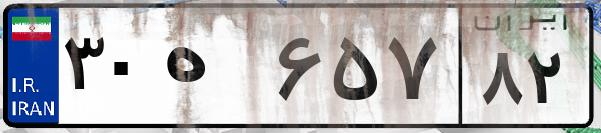0: (110, 28, 158, 98)
2: (525, 38, 570, 115)
3: (57, 26, 110, 100)
5: (330, 28, 385, 110)
6: (270, 28, 330, 110)
7: (385, 28, 445, 110)
8: (475, 38, 525, 113)
ه: (158, 20, 270, 120)
